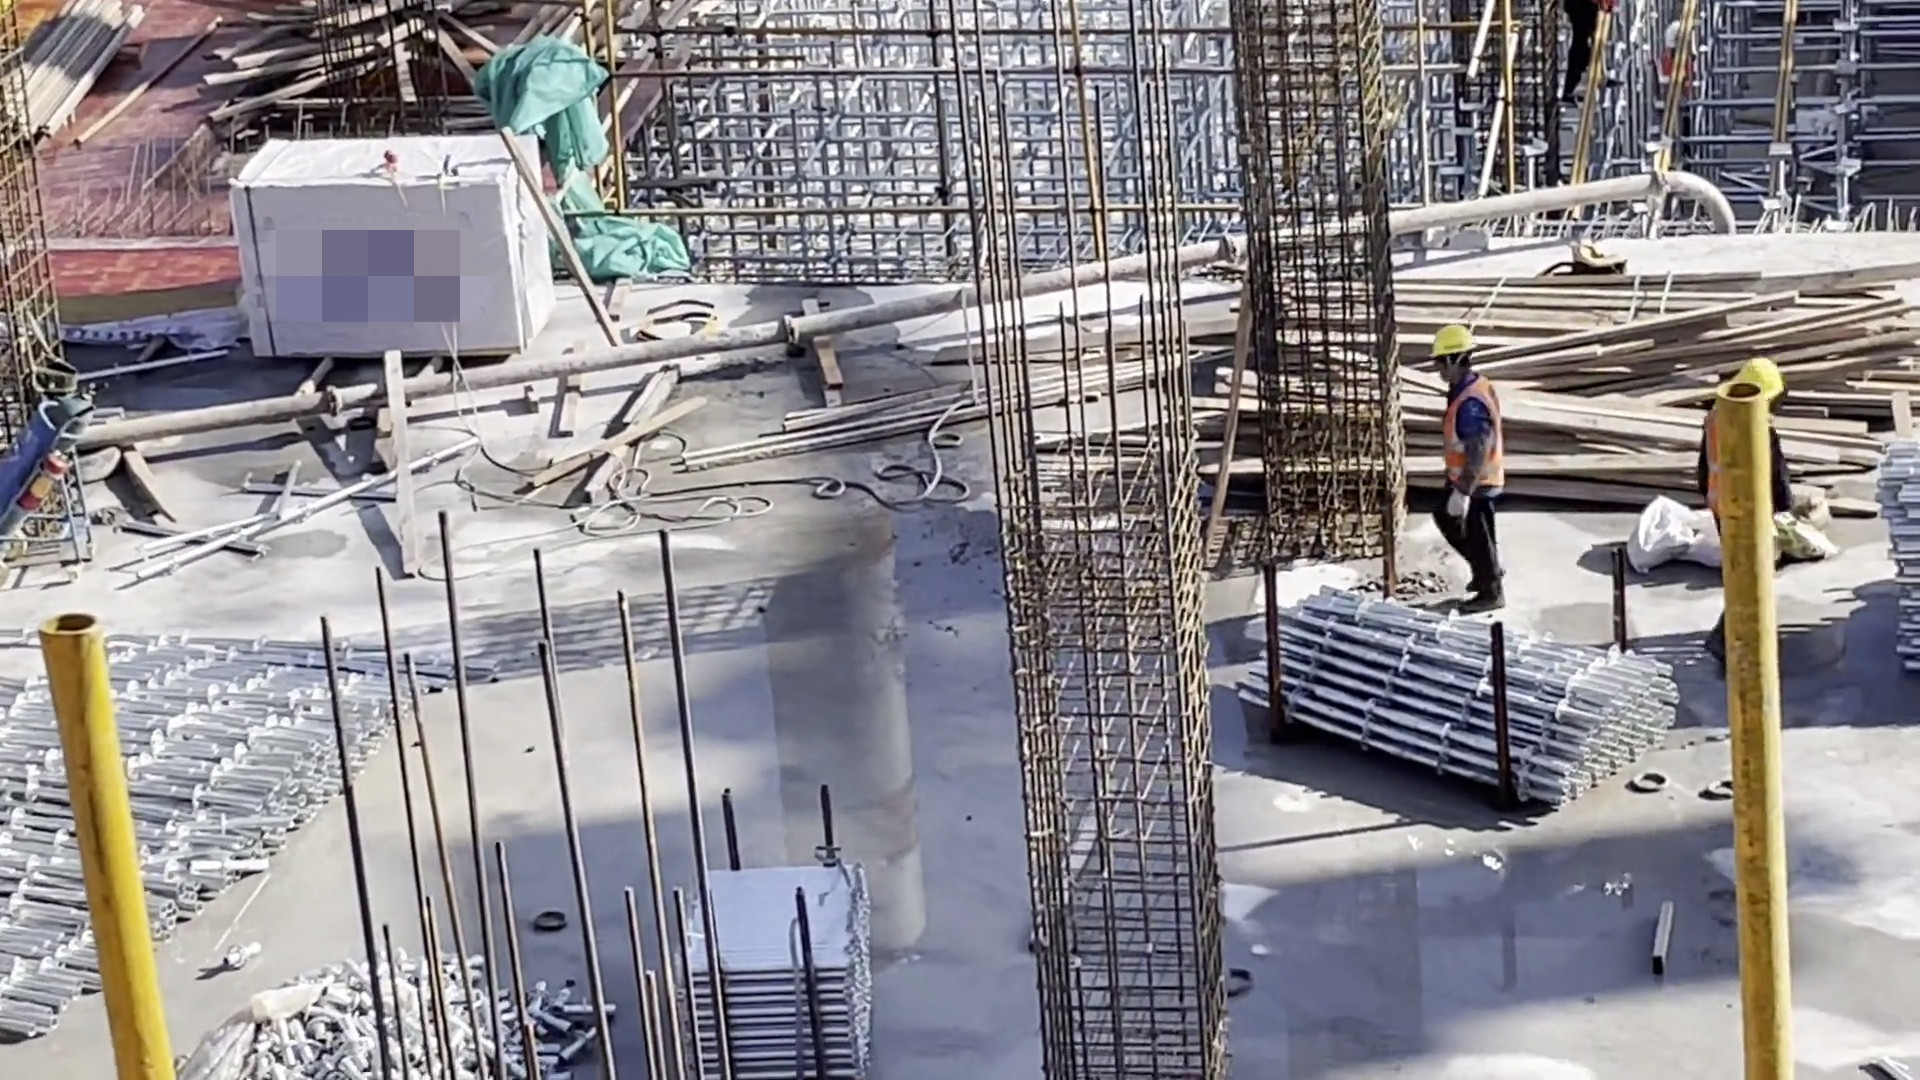helmet: (1426, 324, 1481, 359), (1739, 360, 1778, 397)
person: (1428, 319, 1510, 615)
scaffold: (1, 628, 468, 1043), (1239, 575, 1697, 859), (214, 965, 606, 1080), (673, 860, 879, 1077)
vest: (1437, 380, 1515, 516)
wood: (1488, 262, 1920, 512)
